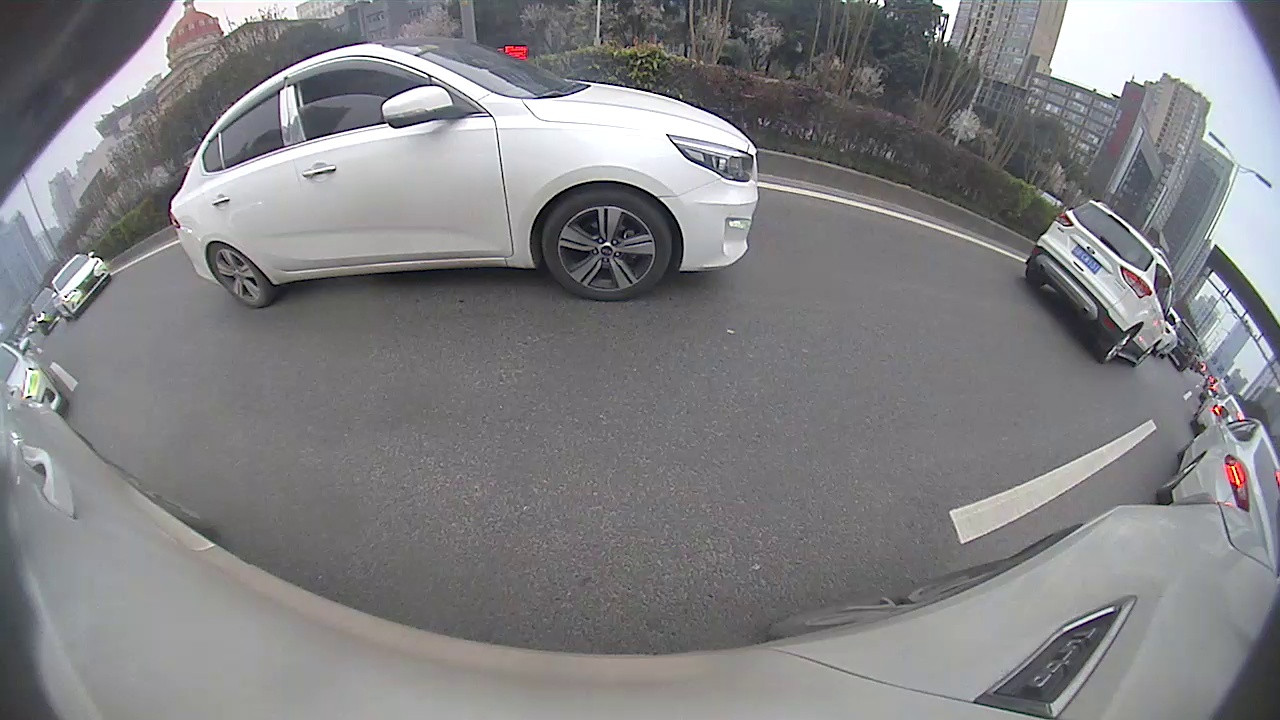car: (167, 38, 763, 308), (1022, 199, 1178, 369), (1155, 406, 1278, 548), (50, 249, 113, 322)
front: (540, 186, 676, 304)
rear: (206, 239, 275, 308), (1100, 324, 1141, 366)
